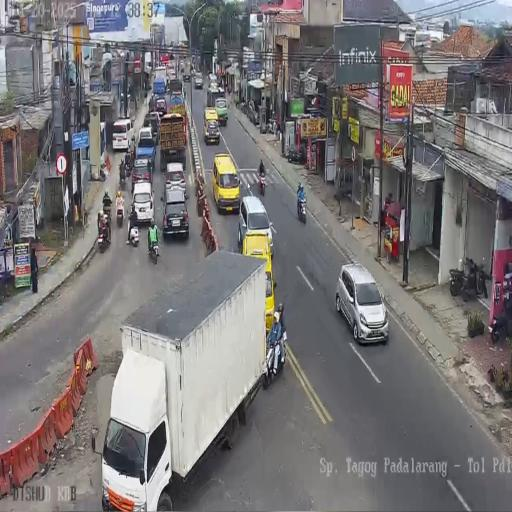car: (338, 262, 388, 343), (238, 195, 272, 256), (212, 152, 240, 214), (162, 189, 189, 239), (131, 184, 155, 227), (112, 118, 134, 152), (165, 162, 186, 195), (203, 107, 221, 145), (137, 126, 154, 156), (153, 95, 168, 121), (119, 89, 131, 114), (208, 73, 219, 92), (170, 92, 184, 106), (215, 97, 228, 110), (194, 73, 203, 88), (167, 66, 176, 80), (182, 69, 190, 83), (217, 84, 225, 95), (180, 60, 185, 74)
motorcycle: (449, 256, 491, 301), (489, 309, 508, 343), (286, 145, 304, 165), (148, 233, 160, 263), (297, 189, 307, 223), (115, 198, 125, 224), (258, 168, 266, 196), (268, 116, 279, 136), (119, 162, 126, 187), (125, 155, 132, 176), (240, 100, 246, 114)
truck: (108, 254, 270, 502), (159, 109, 187, 170), (153, 65, 168, 92)
